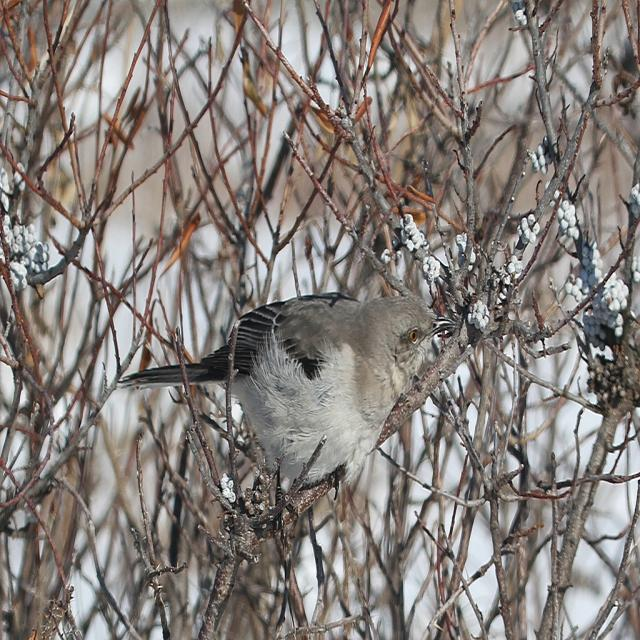bird: (116, 284, 456, 512)
